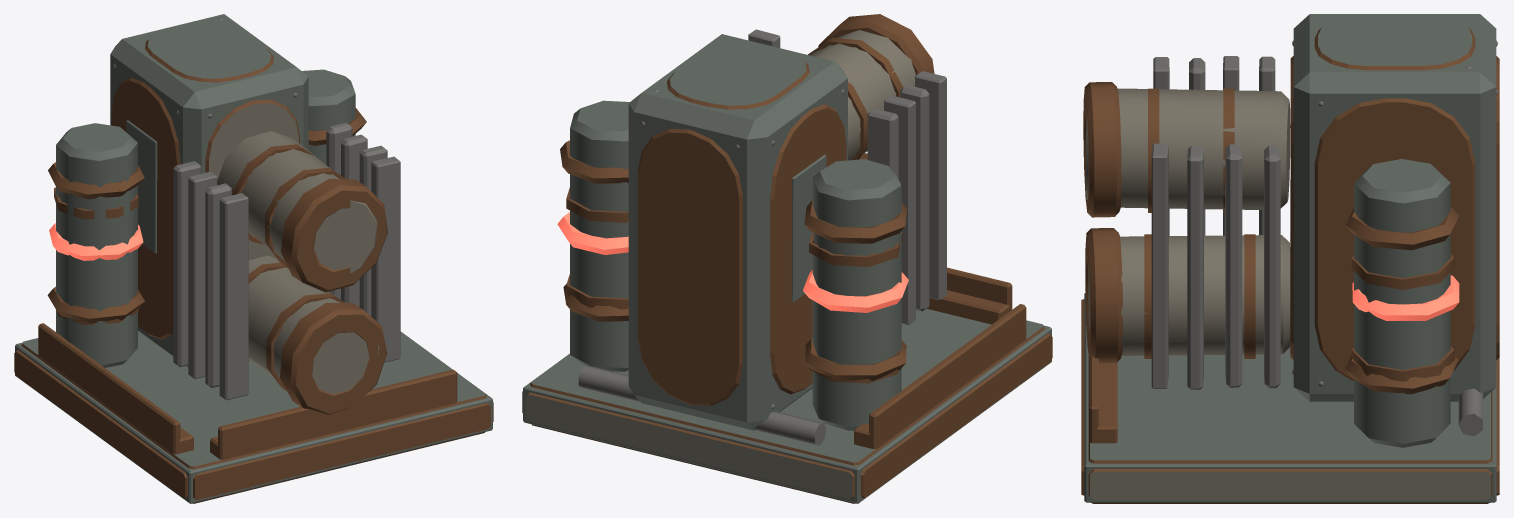
Rendered from R4X_DoubleShotOverdrive.fbx.
The picture shows the model from 3 angles, left to right: view 1: azimuth 30°, elevation 25°; view 2: azimuth 150°, elevation 25°; view 3: azimuth 270°, elevation 25°; orthographic projection. The views are drawn at different scales.
Visible parts, largest first — view 1: R4X_DoubleShotOverdrive_Body; view 2: R4X_DoubleShotOverdrive_Body; view 3: R4X_DoubleShotOverdrive_Body.
Boxes of the visible parts, left/top/right/bottom form: R4X_DoubleShotOverdrive_Body: left=14, top=14, right=493, bottom=503; R4X_DoubleShotOverdrive_Body: left=522, top=14, right=1052, bottom=503; R4X_DoubleShotOverdrive_Body: left=1081, top=14, right=1499, bottom=503.
Bounding box in the file's own units: 0.52 × 0.52 × 0.52.
